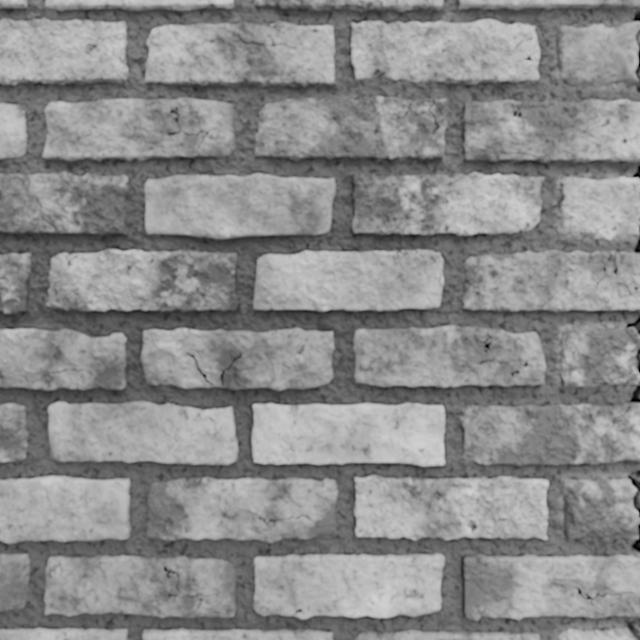brick: (147, 477, 336, 542), (354, 476, 547, 539), (254, 554, 443, 618), (145, 174, 334, 238), (255, 97, 446, 160), (145, 22, 333, 86), (141, 328, 333, 390), (351, 20, 538, 83), (352, 173, 542, 235), (49, 401, 237, 463), (252, 404, 443, 465), (45, 556, 236, 617), (43, 99, 234, 160), (47, 250, 238, 311), (354, 326, 544, 386), (463, 555, 639, 619), (254, 251, 441, 310), (462, 100, 639, 162), (460, 404, 639, 464), (463, 251, 639, 311), (0, 477, 129, 542), (0, 19, 126, 84), (0, 173, 127, 235), (0, 329, 125, 389), (254, 0, 441, 11), (143, 629, 331, 639), (46, 0, 232, 10), (0, 254, 29, 313), (0, 555, 28, 610), (0, 404, 26, 461), (356, 631, 539, 639), (459, 0, 639, 8), (0, 104, 26, 158), (0, 629, 126, 639), (617, 252, 639, 292), (418, 250, 442, 271), (0, 0, 25, 7)
broken_brick: (555, 21, 639, 88), (557, 176, 639, 240), (559, 327, 639, 386), (563, 477, 637, 539), (558, 627, 634, 639)
crack: (599, 380, 639, 443), (595, 251, 639, 296), (391, 249, 442, 285), (627, 469, 639, 556), (387, 100, 413, 139), (427, 98, 440, 141), (499, 151, 548, 161), (634, 28, 639, 93), (625, 316, 639, 335), (626, 620, 639, 639), (523, 49, 538, 62), (634, 216, 639, 254), (634, 347, 639, 373), (632, 163, 639, 180), (290, 608, 303, 616), (633, 8, 639, 22), (267, 24, 286, 28), (277, 634, 281, 639), (638, 190, 639, 199)
